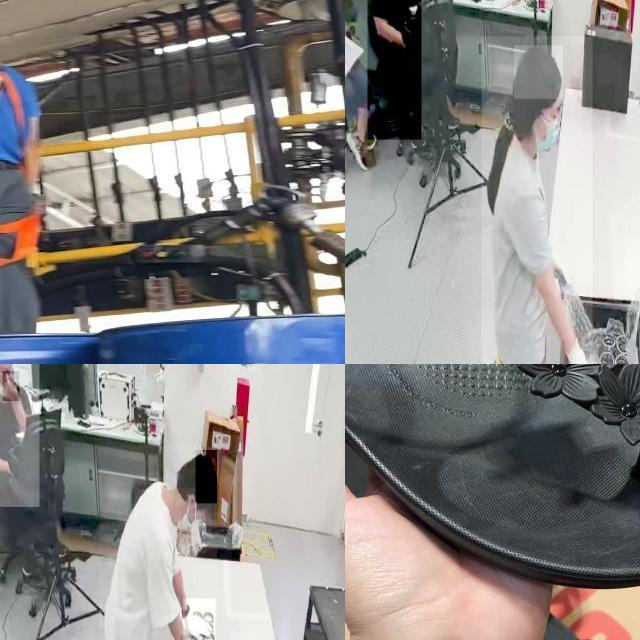Harness: (0, 48, 49, 283)
Sandals: (345, 364, 640, 595)
face_mask: (170, 487, 212, 549), (526, 100, 566, 153)
hand_glove: (182, 598, 215, 640), (563, 338, 590, 364)
hand_noglove: (2, 371, 20, 402)
head_nohelmet: (514, 46, 564, 100), (195, 450, 218, 504)
person: (481, 36, 592, 364), (99, 445, 217, 640), (367, 0, 422, 140), (0, 364, 39, 508)
shoes: (345, 126, 369, 174)
